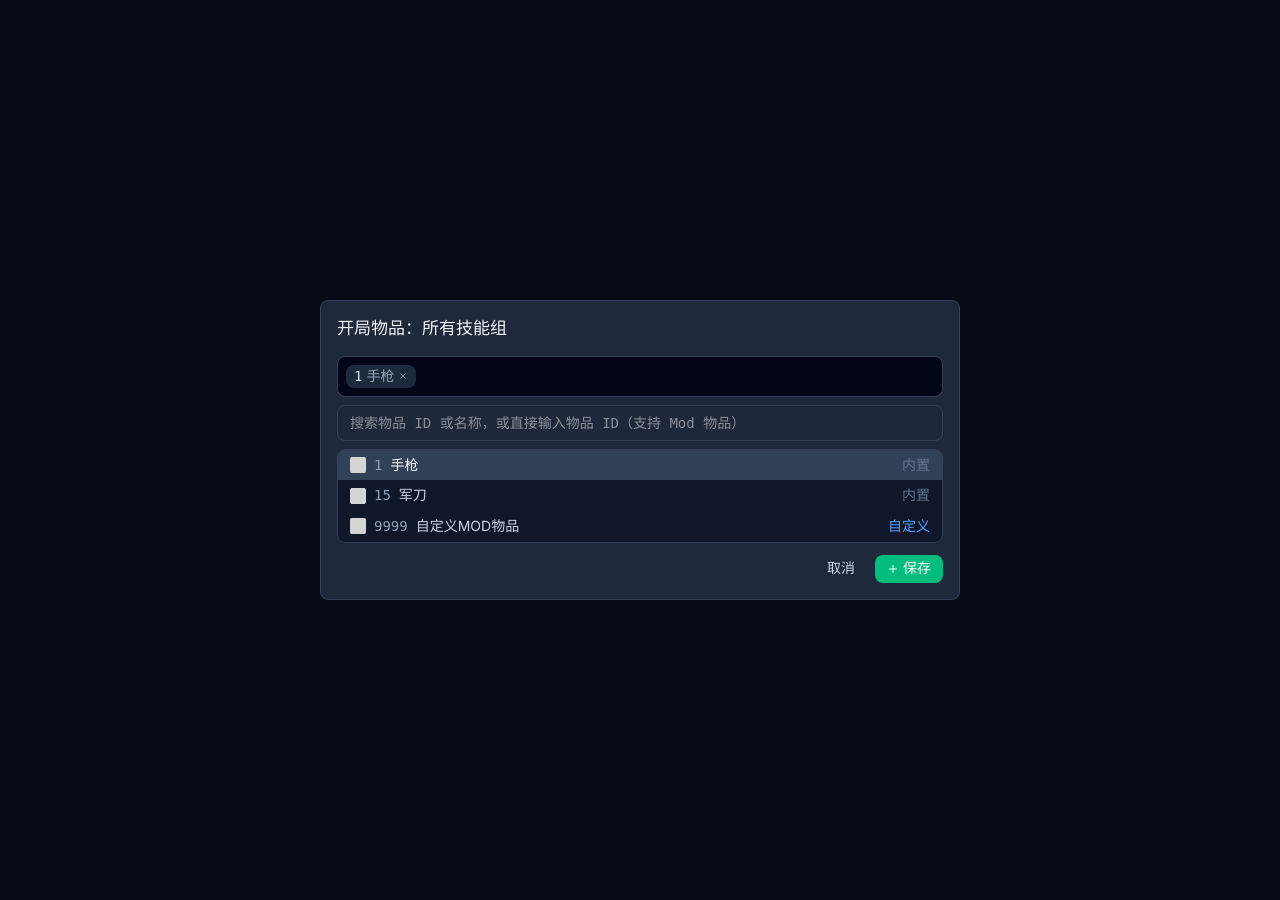
Test: LoadoutItemDialog — 物品选择 › 输入合法整数回车直接提交（Mod 物品）
Type "12345" into the field with placeholder "搜索物品 ID 或名称，或直接输入物品 ID（支持 Mod 物品）".
click(640, 423); type("12345")  # box [337,405,943,441]
Then press Enter
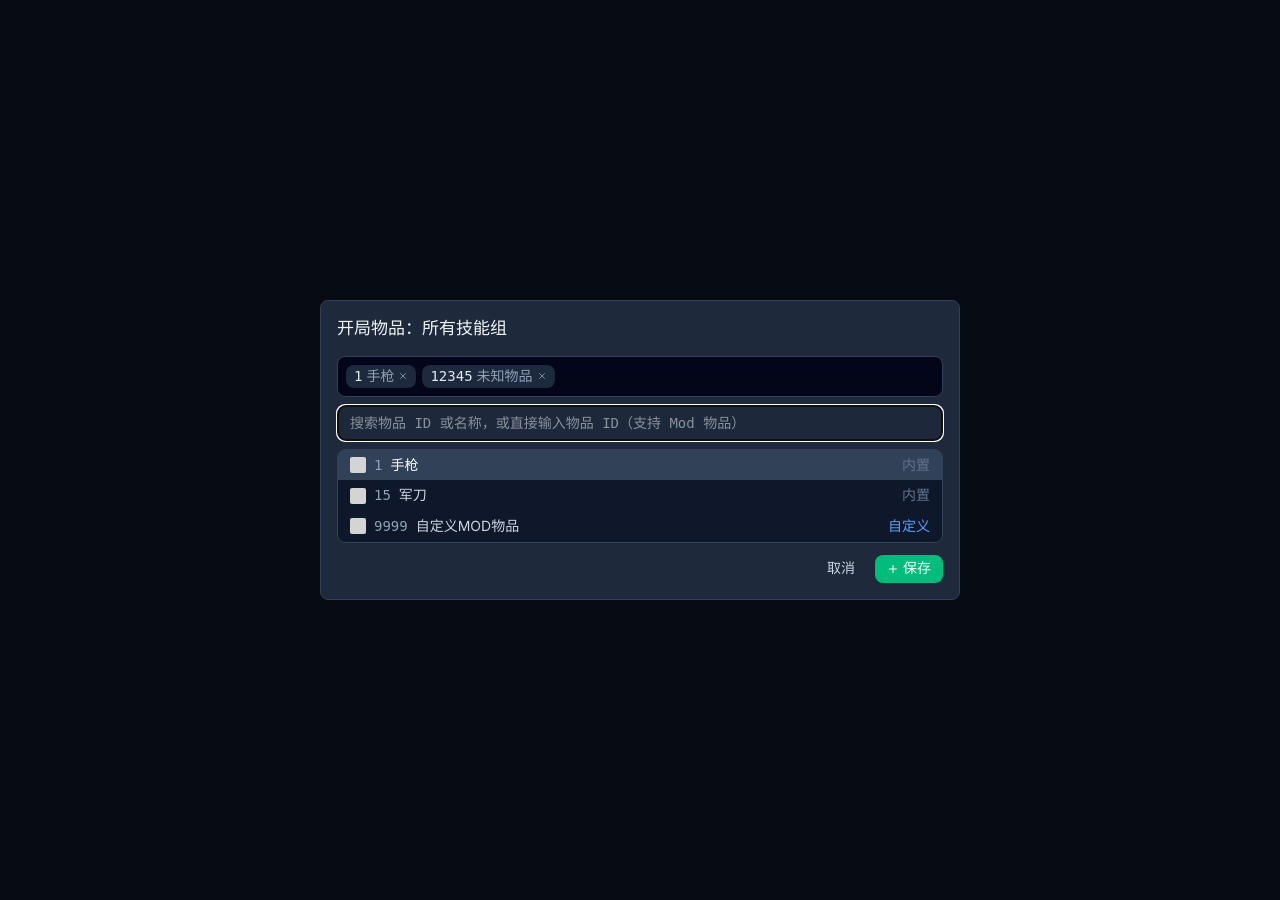
Now the text "12345" is shown, box [430,367,473,386]
Now the text "未知物品" is shown, box [477,367,533,386]
